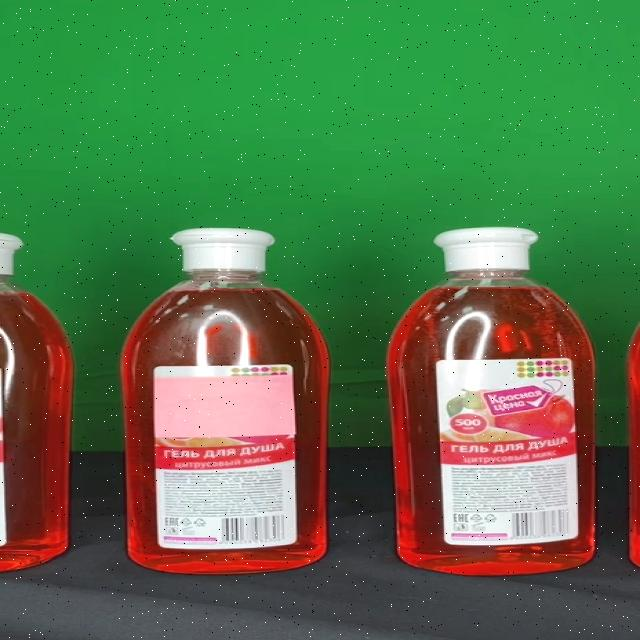Bottle: (384, 227, 595, 576), (120, 227, 328, 574)
Cap: (433, 227, 539, 272), (171, 228, 276, 271)
